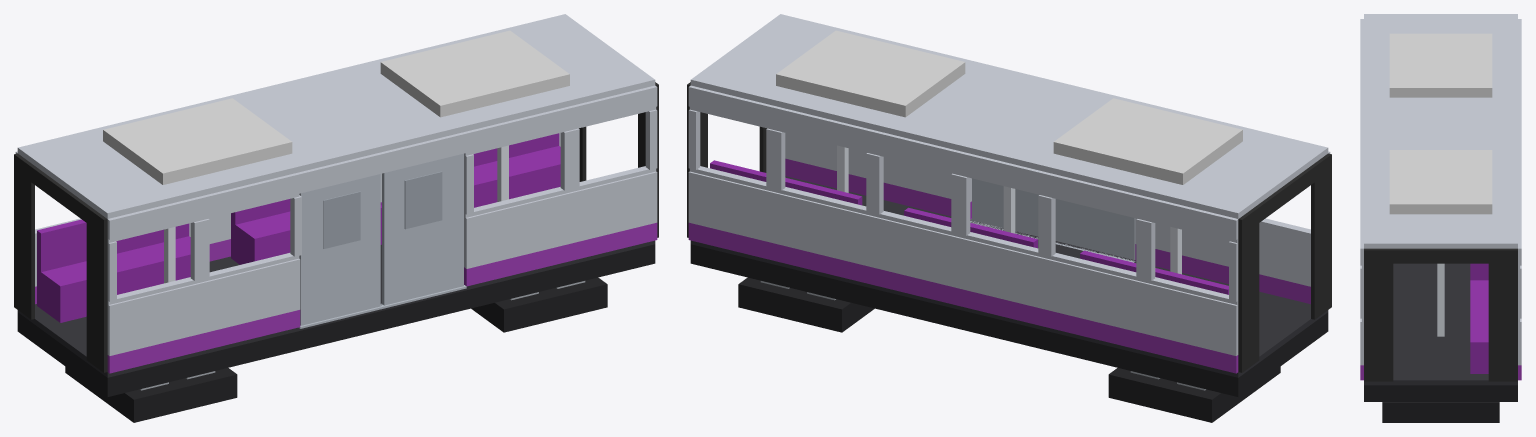
The model's file is metro_wagon_closed_l5.obj.
3 renders of one model, left to right at view 1: azimuth 30°, elevation 25°; view 2: azimuth 150°, elevation 25°; view 3: azimuth 270°, elevation 25°, orthographic. The views are drawn at different scales.
Size of the model in its own units: 3 by 1.26 by 0.88.
